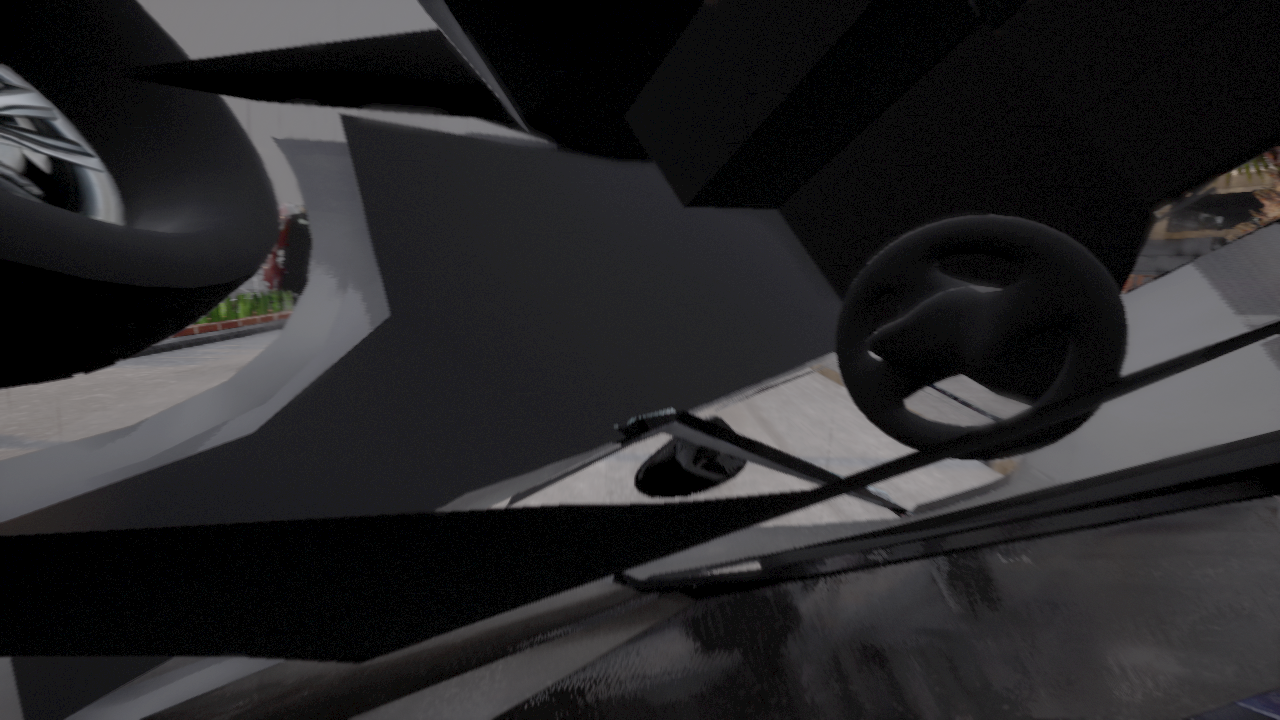cyclist: (1184, 687, 1279, 719)
